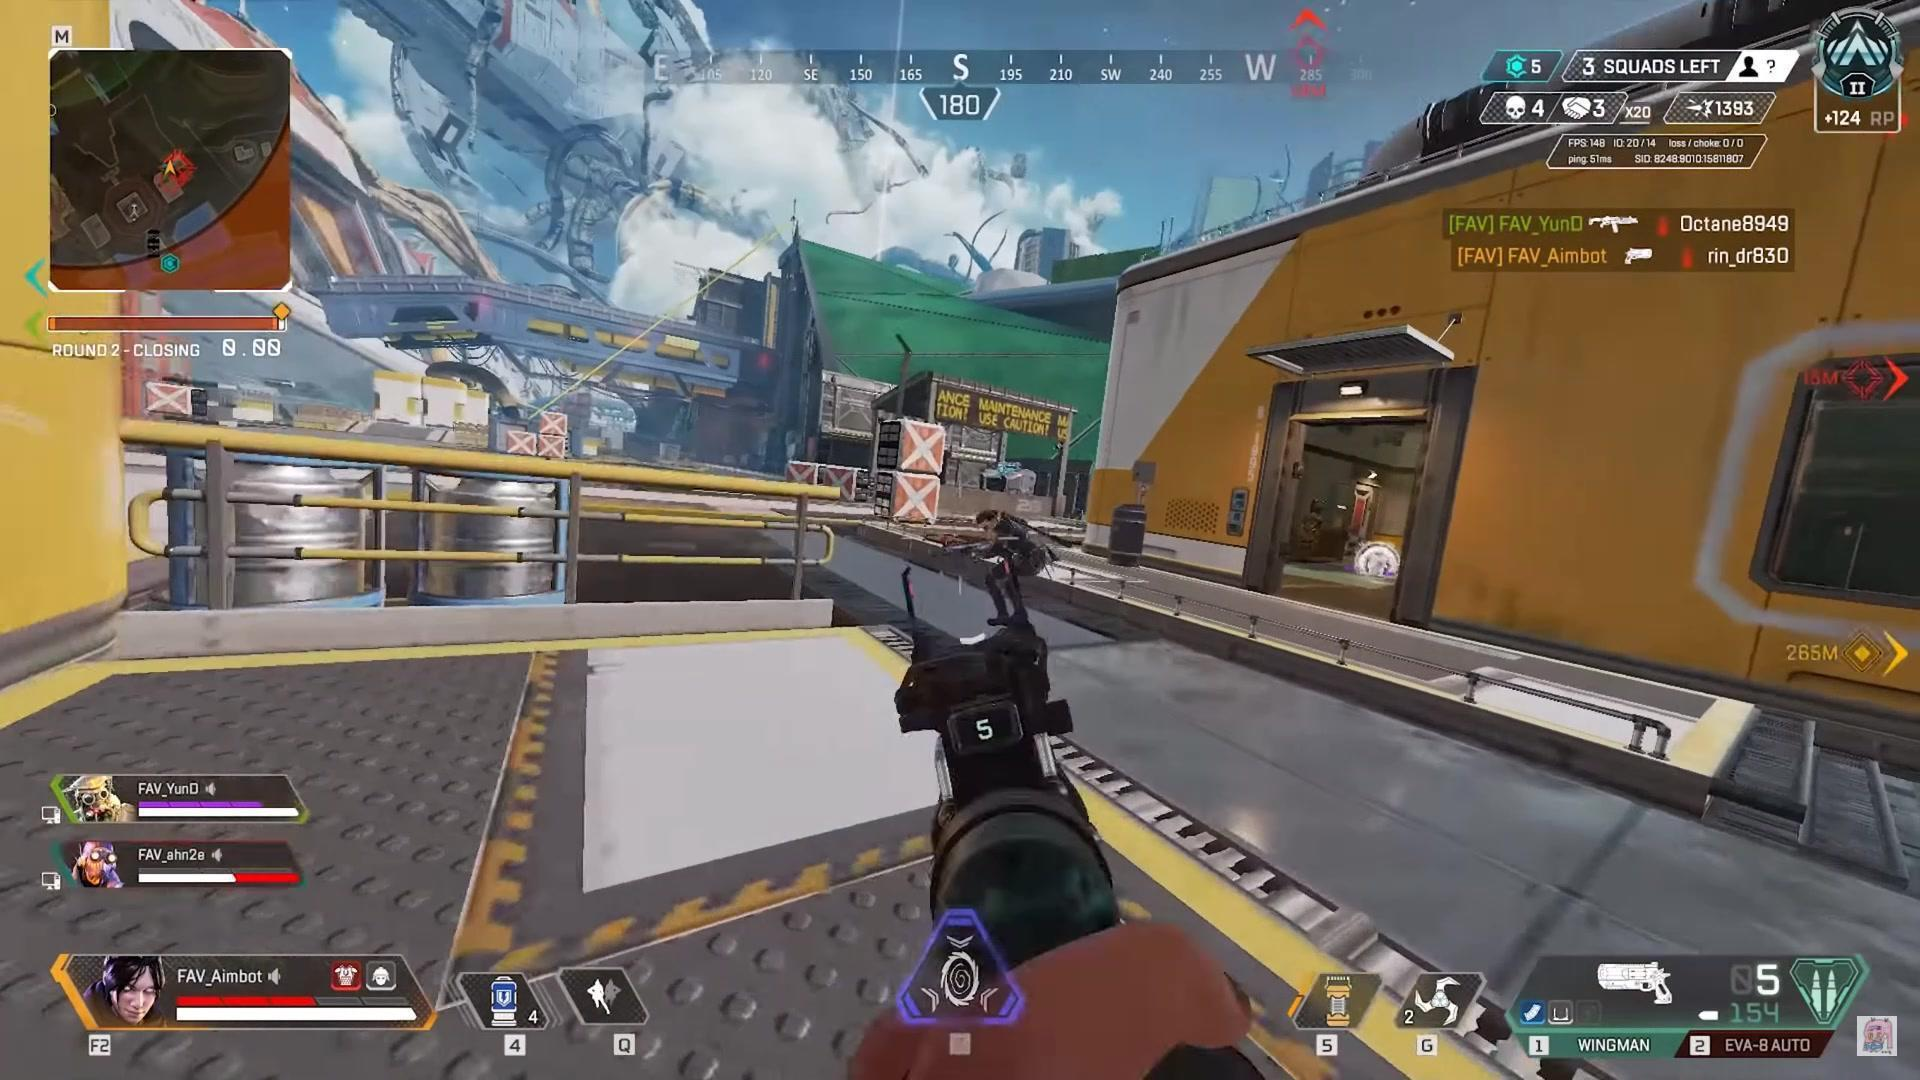avatar: (974, 508, 1048, 629)
